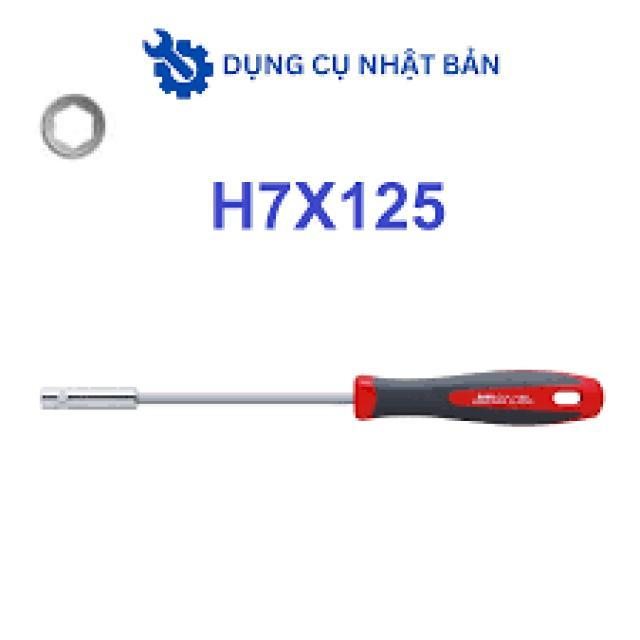screwdriver: (36, 366, 604, 434)
